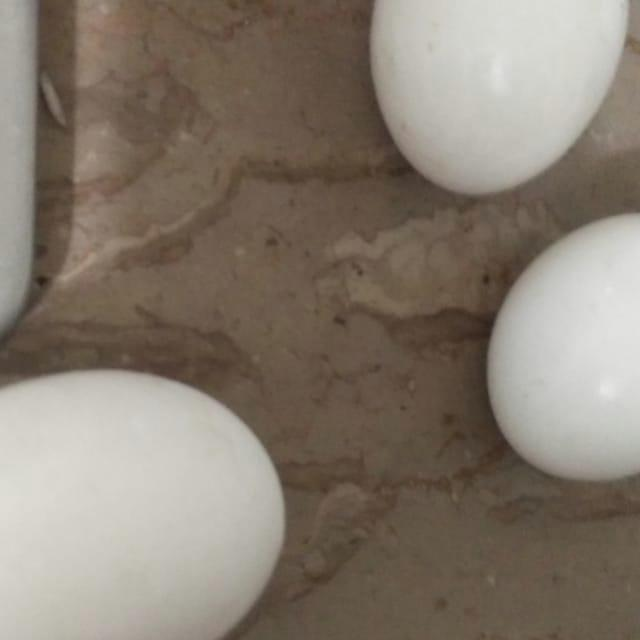egg: (0, 365, 323, 640), (366, 0, 631, 198), (495, 215, 640, 508)
